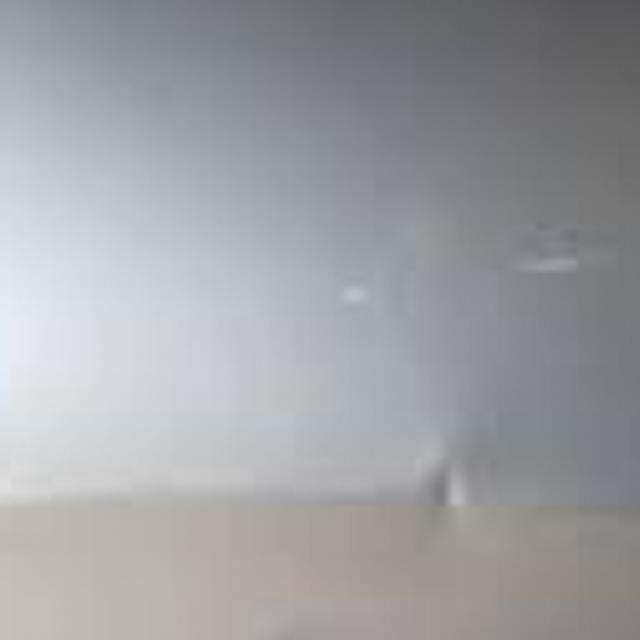dents: (404, 434, 474, 528), (337, 258, 403, 328)
